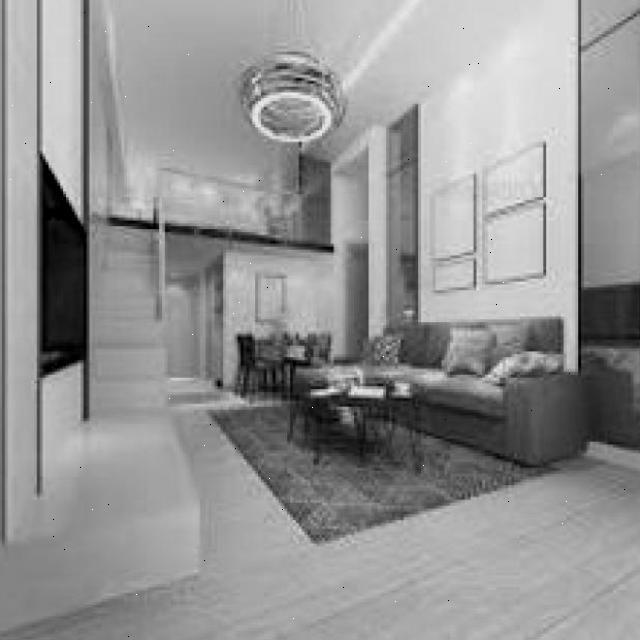stair: (77, 274, 191, 430)
